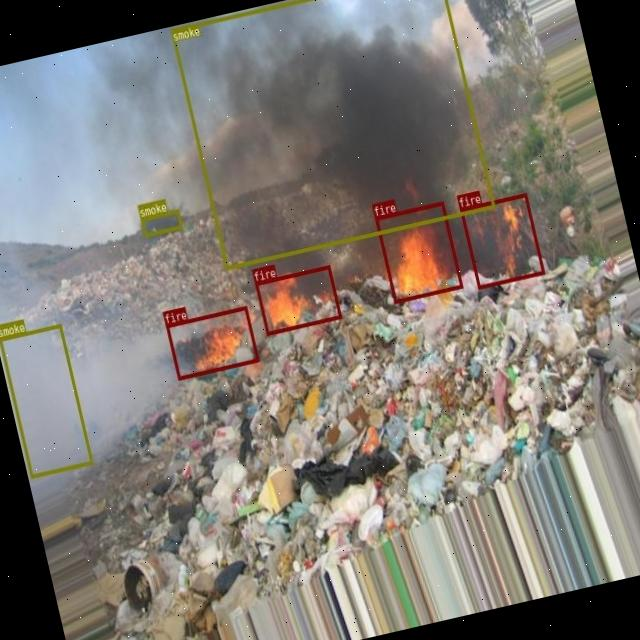fire: (374, 200, 462, 302), (458, 192, 544, 288), (165, 306, 259, 380), (254, 264, 340, 334)
smoke: (171, 0, 495, 269), (0, 322, 92, 477), (140, 208, 182, 236)
